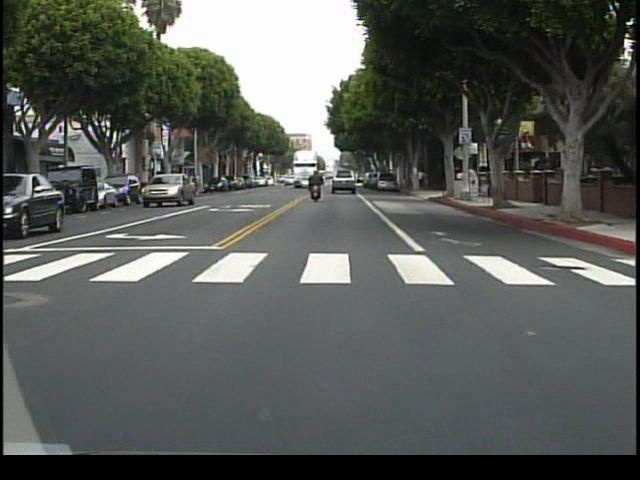person: (305, 166, 324, 206)
